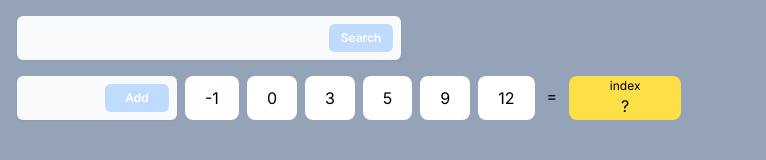
HomePage › Add number › should add a valid number when Enter key is pressed
The width and height of the screenshot is (766, 160).
Type "20" into the number field with test id "add-input" at point(97, 98), box 17,76 -> 177,120
Then press Enter
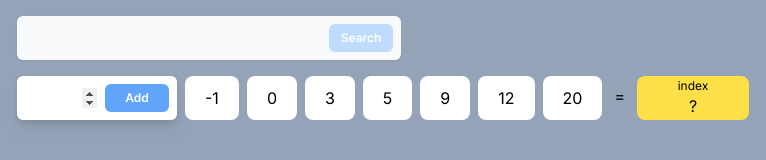
Result: the text with test id "item-6" reads "20" at 563,88 -> 583,108
